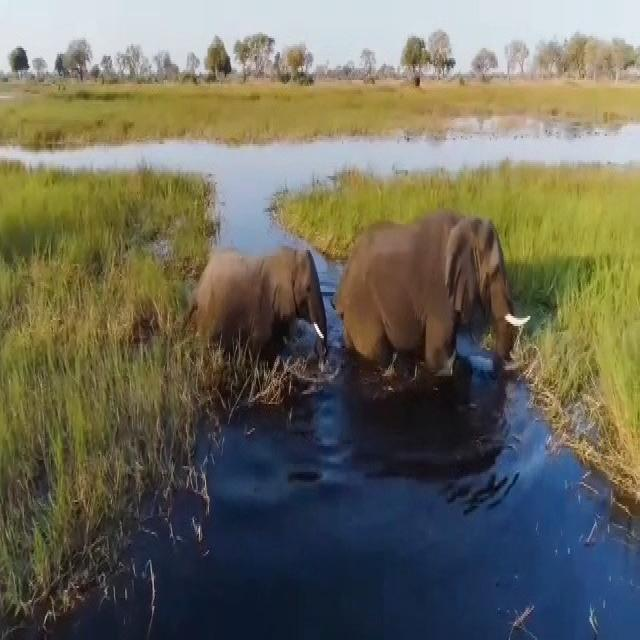Elephant: (341, 220, 530, 378), (192, 236, 327, 364)
